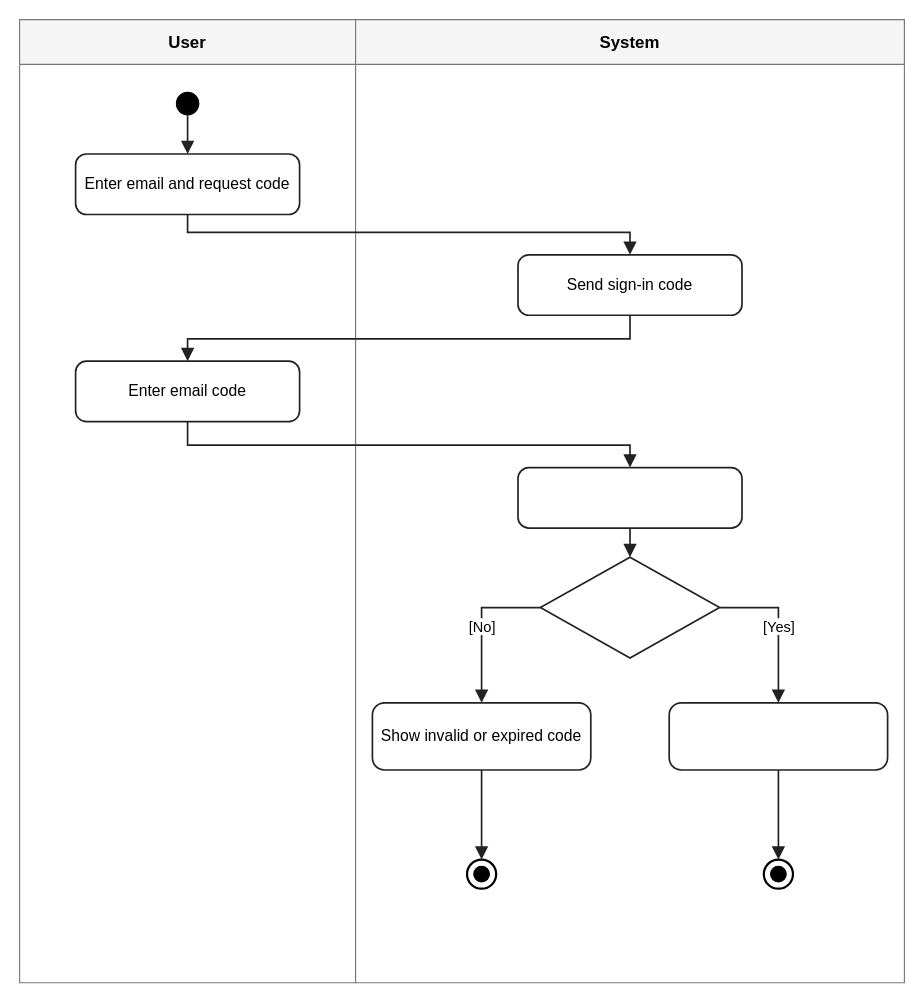
Some shapes in this 924 by 1002 pixel diagram are drawn without their labels. The centre of each missing label's shape, as x and y in pixels:
"Code valid and unexpired?" goes at point (629, 607).
"Open signed-in session" goes at point (778, 735).
"Verify email code" goes at point (629, 497).
